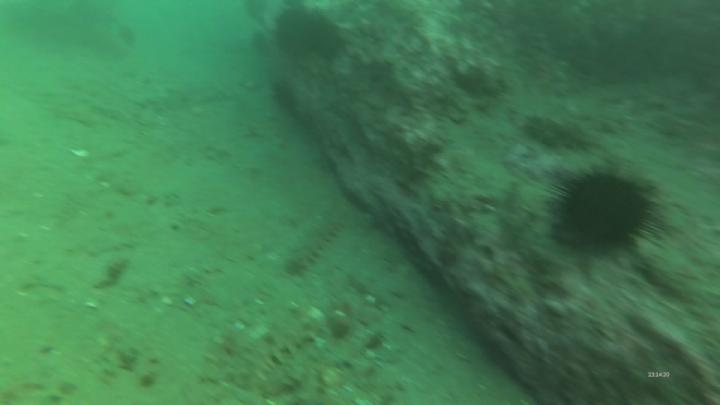echinus: (546, 166, 654, 259), (267, 4, 347, 59)
holothurian: (230, 325, 319, 388), (286, 209, 349, 275)
